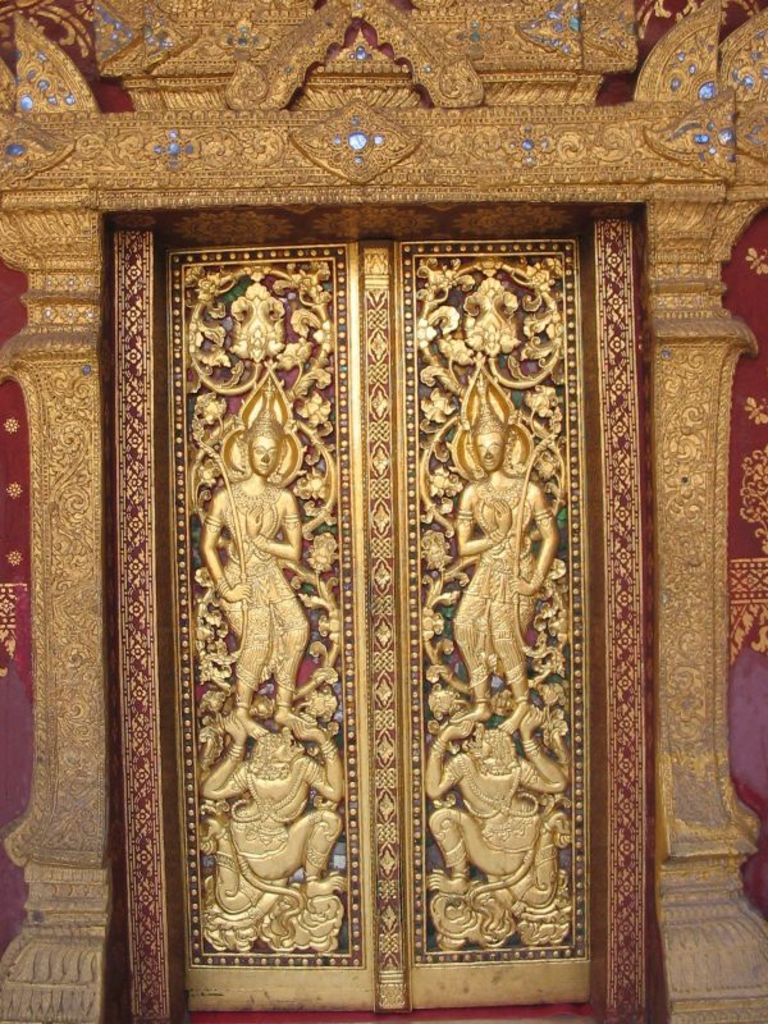person: (198, 415, 310, 730)
